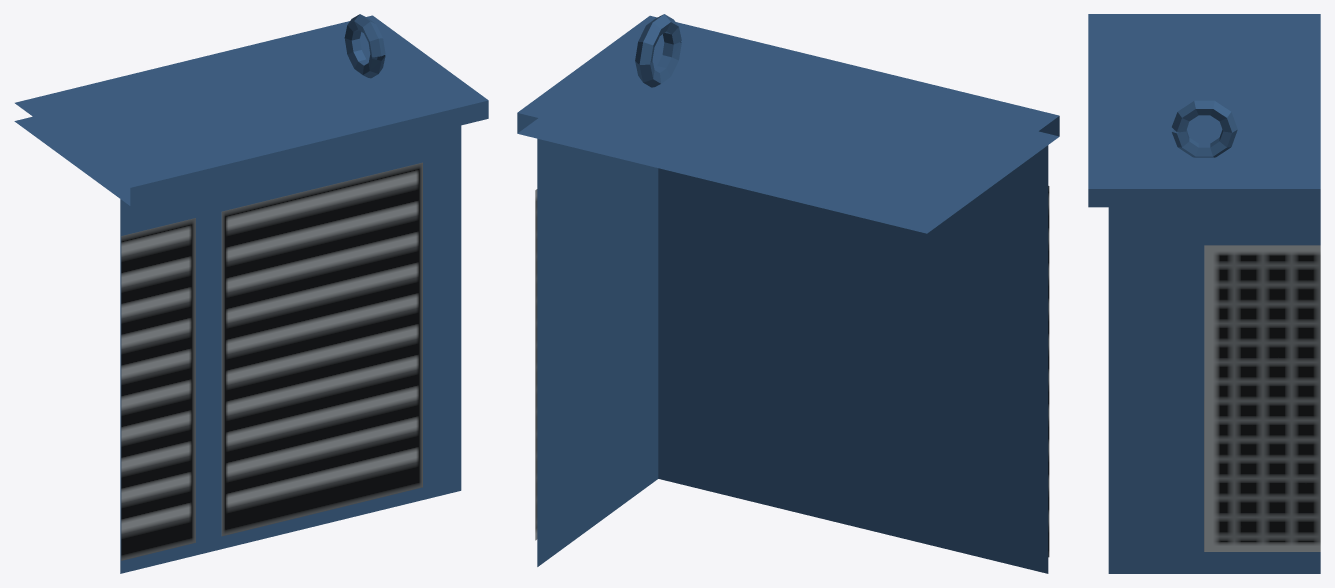
File: cell_62.obj
The picture shows the model from 3 angles, left to right: view 1: azimuth 30°, elevation 25°; view 2: azimuth 150°, elevation 25°; view 3: azimuth 270°, elevation 25°; orthographic projection. The views are drawn at different scales.
Bounding box in the file's own units: 0.82 × 0.9828 × 0.46.
